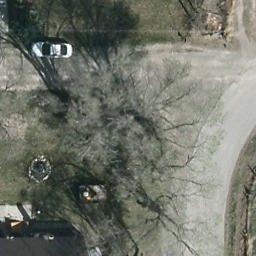car: (31, 40, 74, 61)
